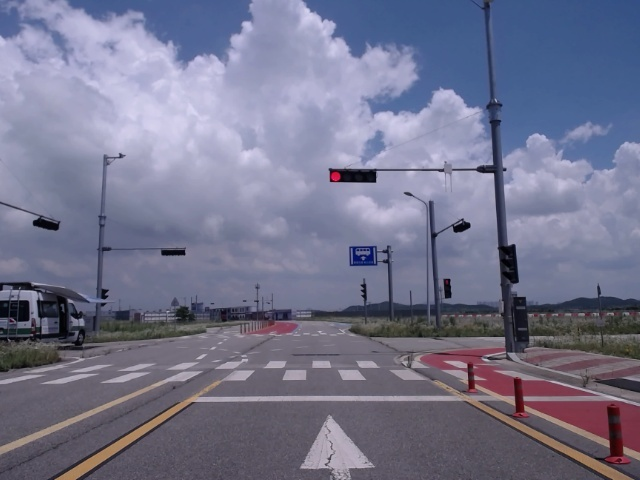red_4: (330, 170, 376, 182)
